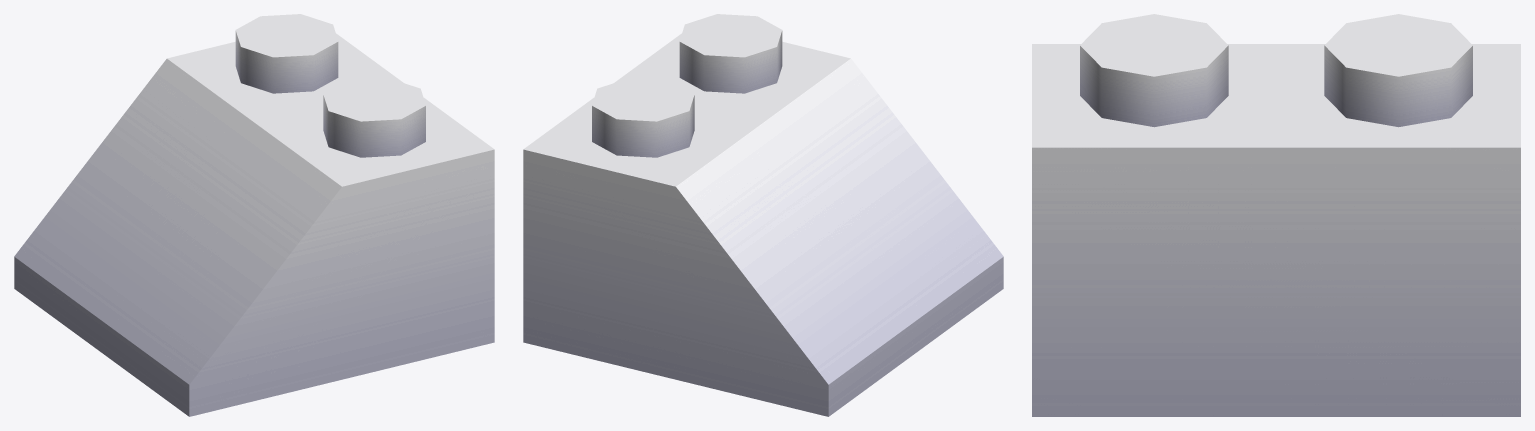
File: round-lq-brick-slope-2x2.glb
3 views of the same model, side by side, from view 1: azimuth 30°, elevation 25°; view 2: azimuth 150°, elevation 25°; view 3: azimuth 270°, elevation 25° (orthographic). The views are drawn at different scales.
Parts seen in each view (by area): view 1: round-lq-brick-slope-2x2; view 2: round-lq-brick-slope-2x2; view 3: round-lq-brick-slope-2x2.
Part boxes in pixels (x1=…): round-lq-brick-slope-2x2: x1=14, y1=14, x2=494, y2=416; round-lq-brick-slope-2x2: x1=523, y1=14, x2=1003, y2=416; round-lq-brick-slope-2x2: x1=1032, y1=14, x2=1520, y2=416.
Size of the model in its own units: 0.159 by 0.114 by 0.158.
Materials: 1 (1 with a texture image).
